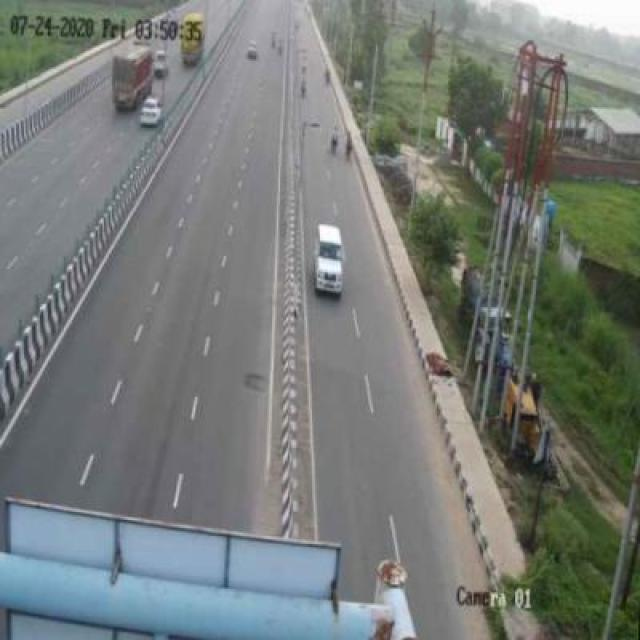car: (307, 219, 352, 301)
